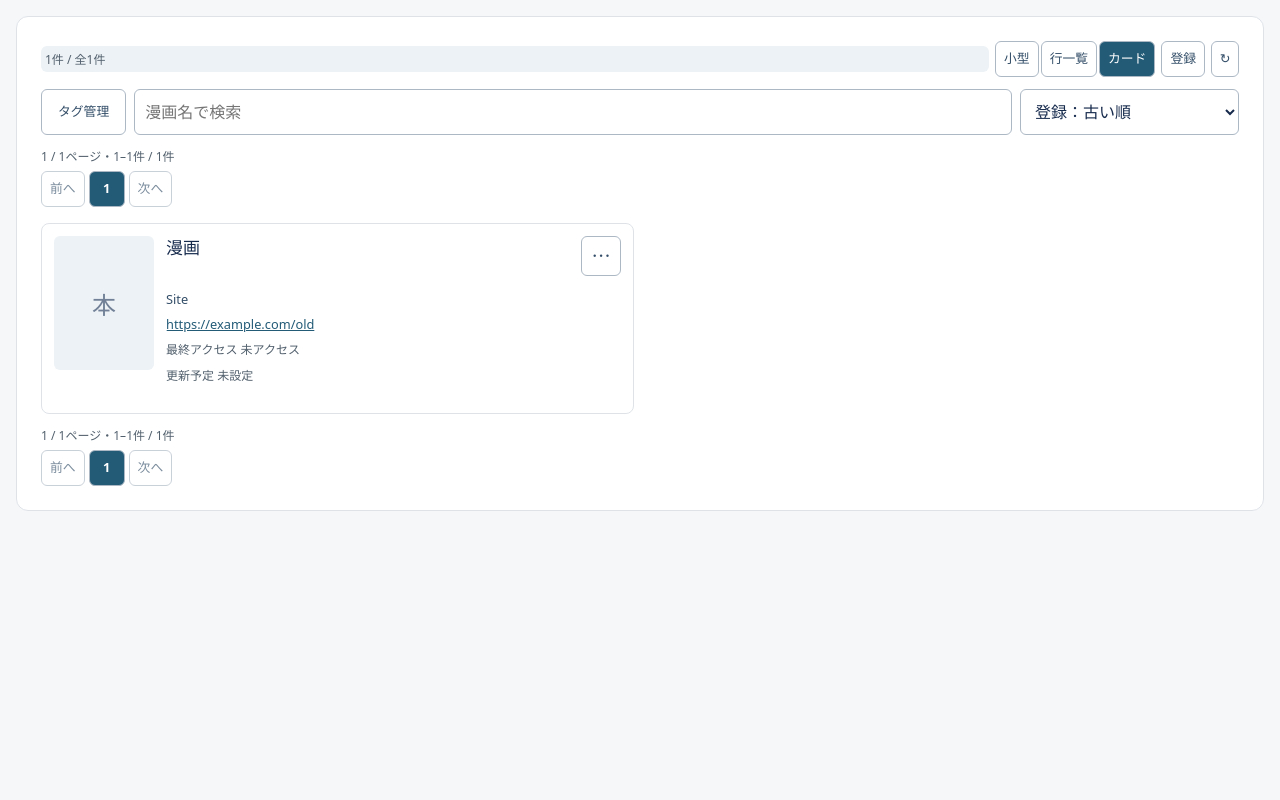
Test: キャンセルは保存せず入力を破棄し、再度開くと保存済みの値になる
Expected: the heading "漫画" is shown, [166,236,200,259]
Step 1. Click the button named "漫画の作品操作" → (601, 256), box [581,236,621,276]
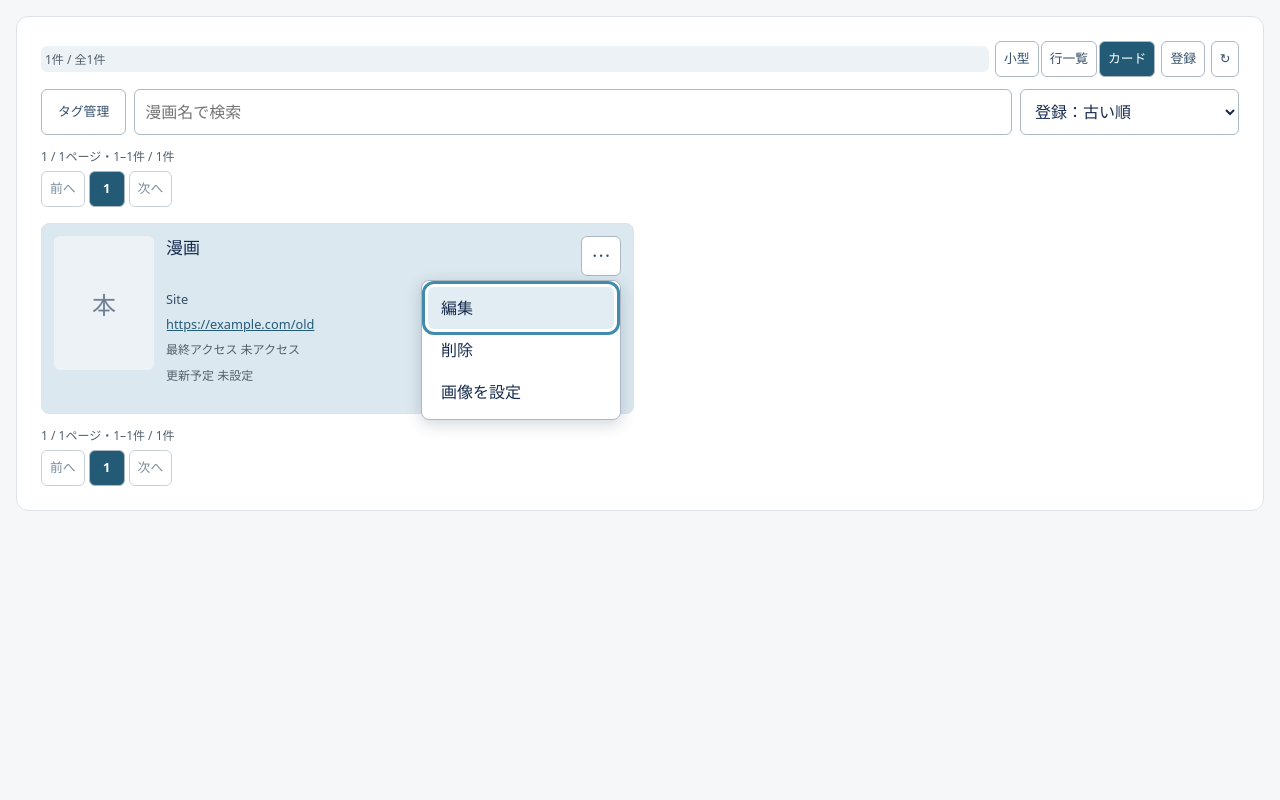
Step 2. Click the button with aria-label "漫画を編集" → (521, 308), box [428,287,614,329]
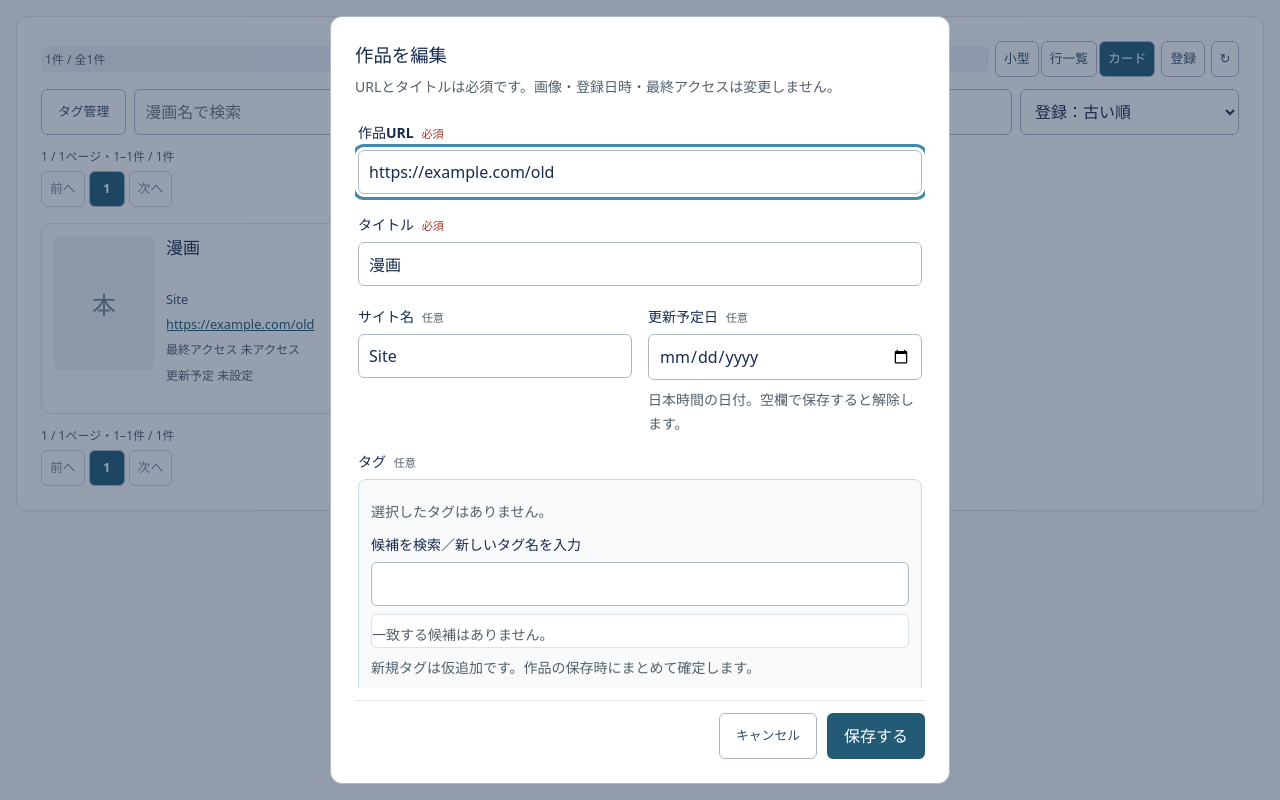
Step 3. Type "入力" into the field labelled "タイトル 必須" → (640, 264), box [358,242,922,286]
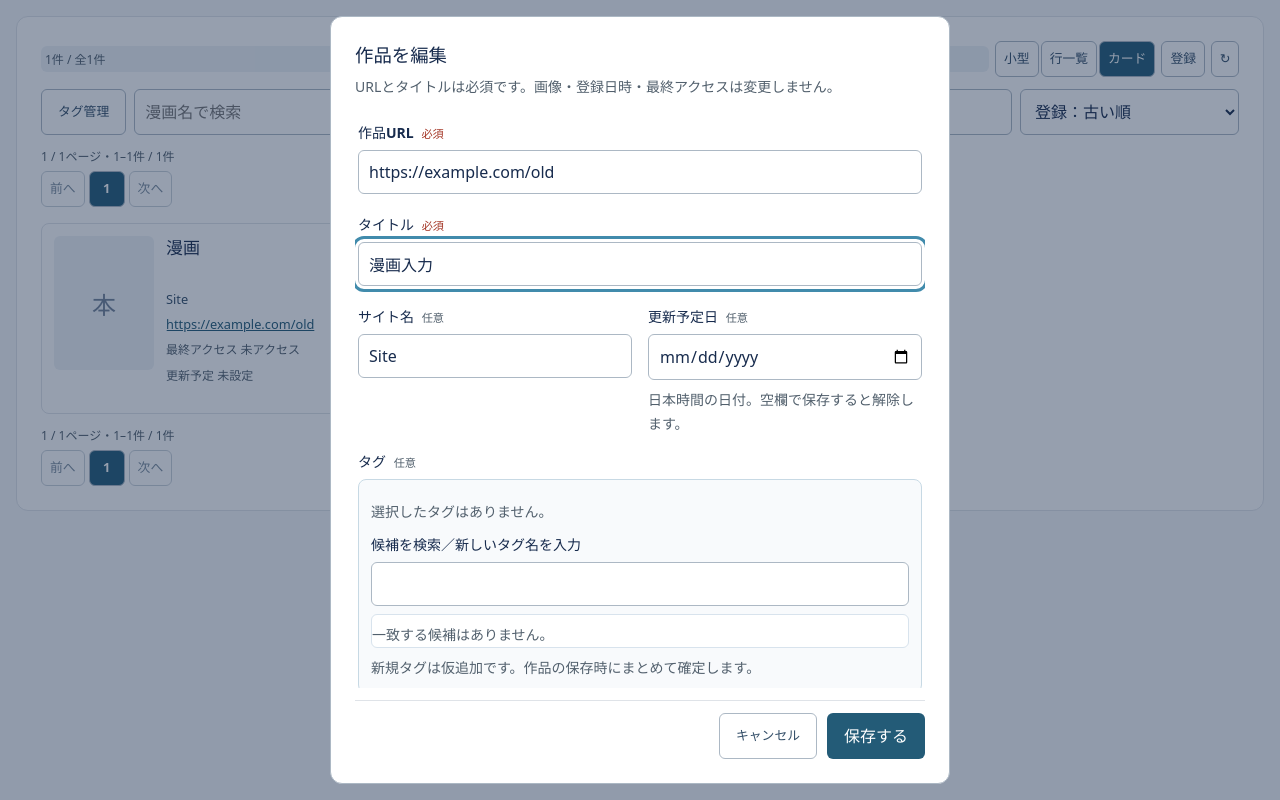
Step 4. Click the button "キャンセル" → (768, 736), box [719,713,817,759]
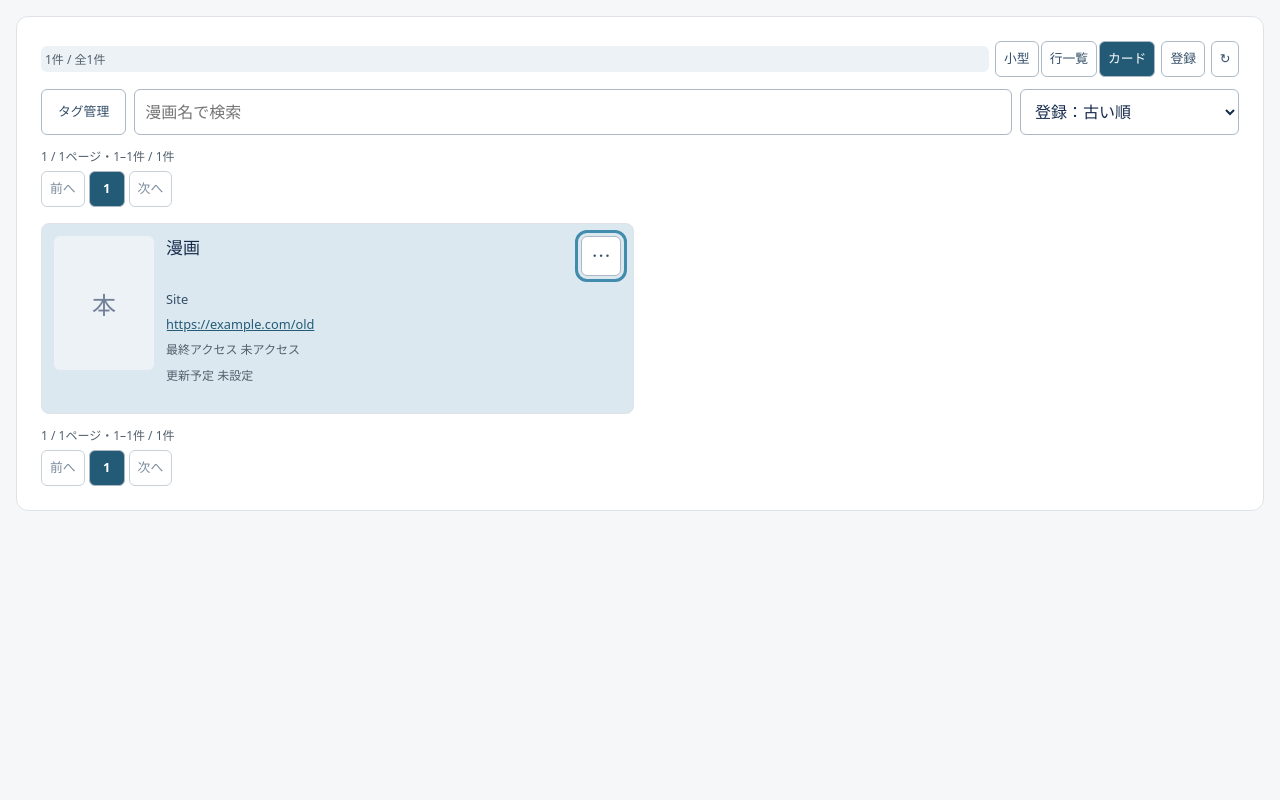
Expected: the dialog is gone
Step 5. Click the button named "漫画の作品操作" → (601, 256), box [581,236,621,276]
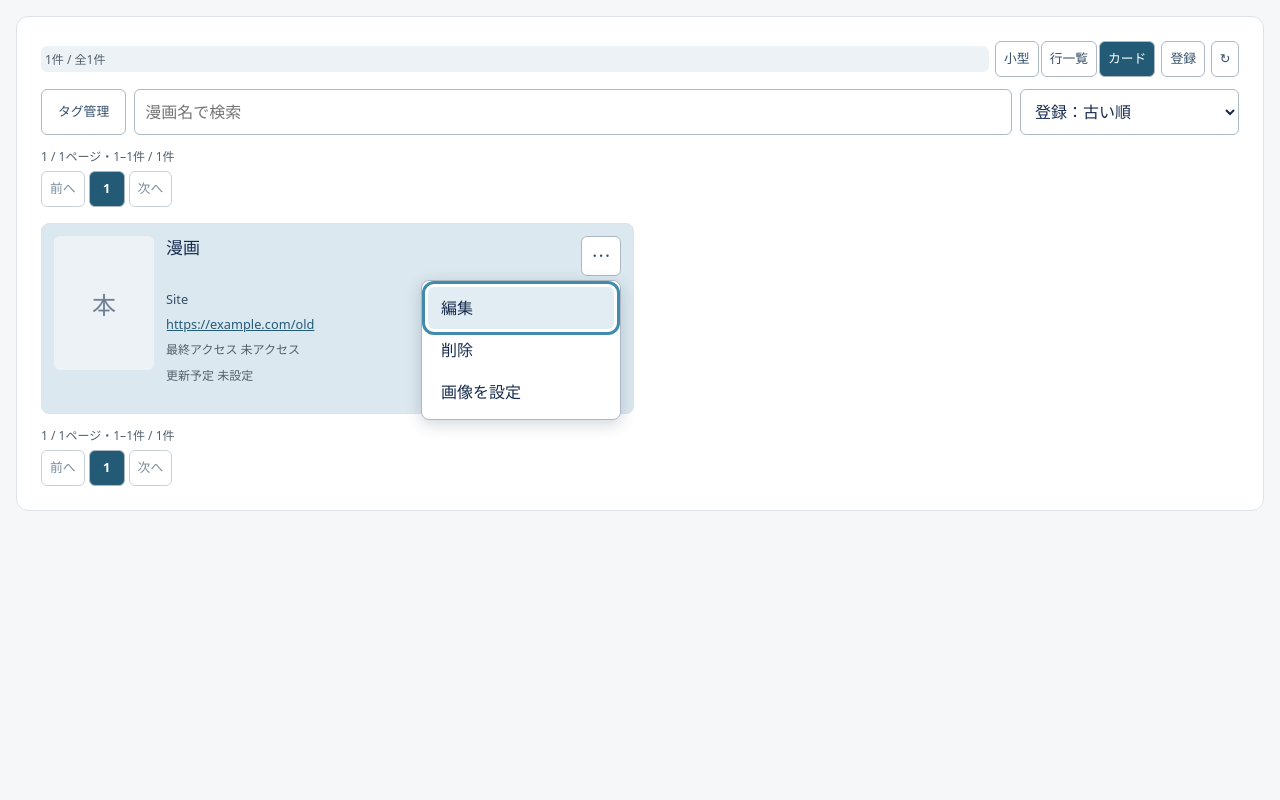
Step 6. Click the button with aria-label "漫画を編集" → (521, 308), box [428,287,614,329]
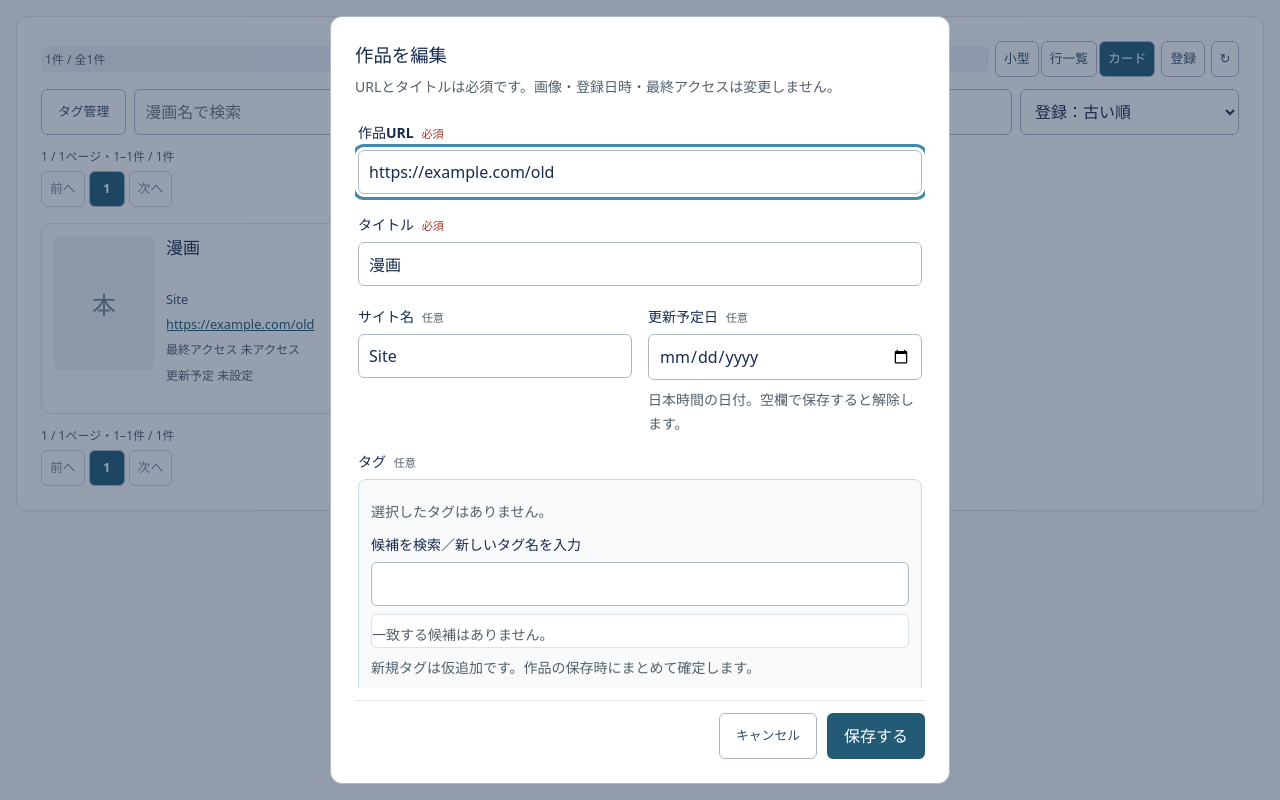
Expected: the field labelled "タイトル 必須" holds "漫画", [358,242,922,286]
